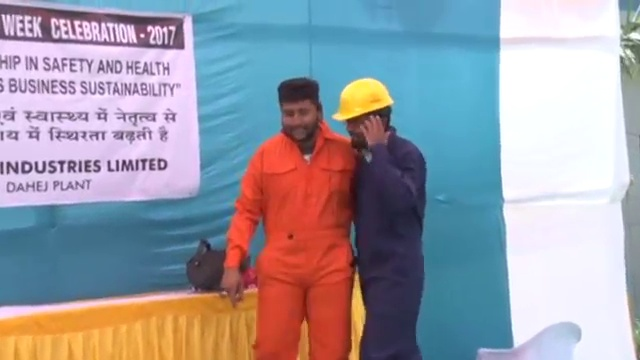helmet: (331, 75, 394, 118)
helmet_off: (279, 76, 320, 140)
helmet_on: (330, 76, 395, 152)
person: (218, 78, 356, 360), (330, 75, 425, 360)
